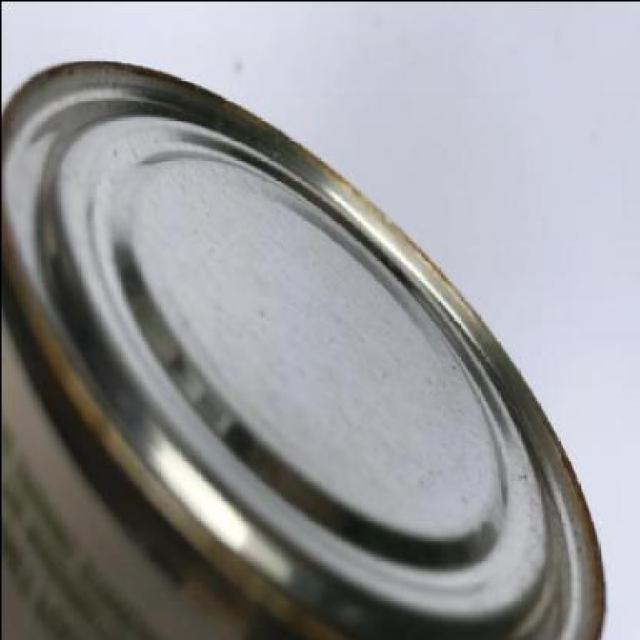METAL: (2, 57, 604, 638)
